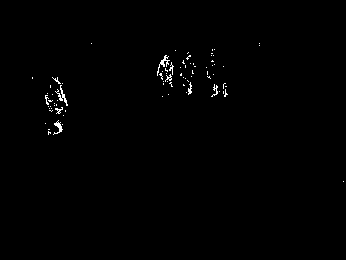person: (41, 76, 71, 138), (204, 47, 229, 102), (155, 53, 176, 93), (179, 50, 196, 97)
